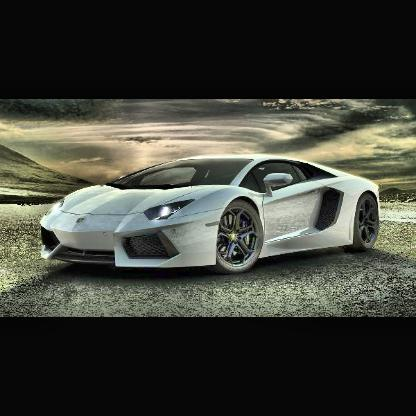Lamborghini Aventador Coupe 2012: (40, 154, 383, 273)
